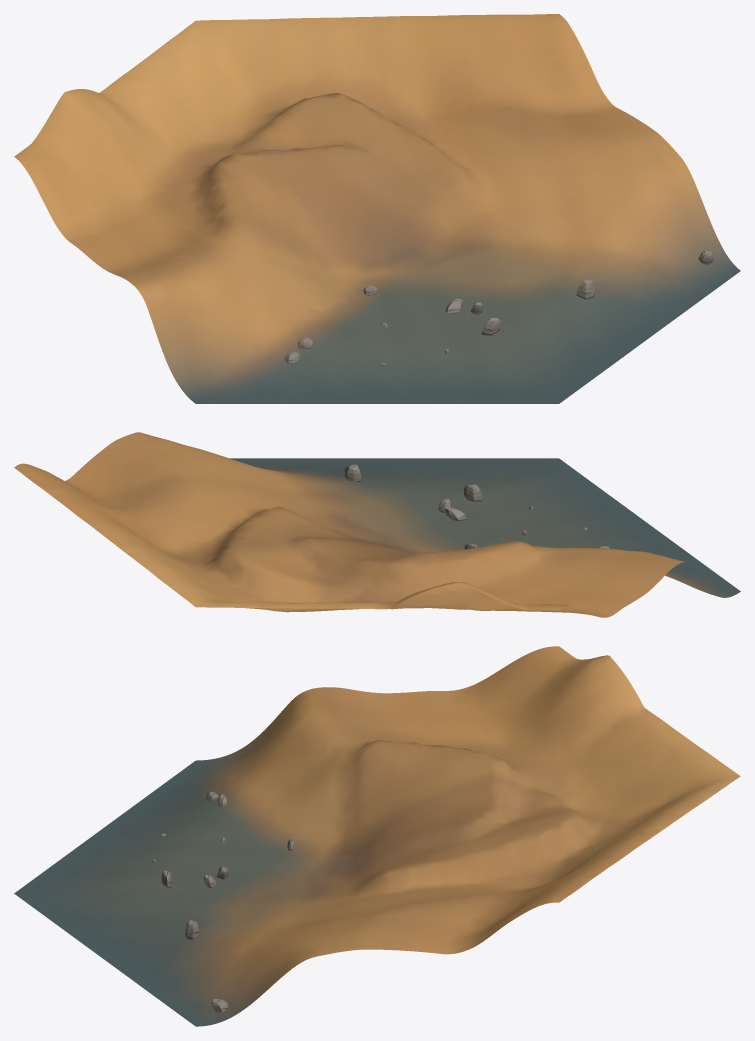
File: costa_-04_+06.glb
The picture shows the model from 3 angles, top to bottom: view 1: azimuth 30°, elevation 25°; view 2: azimuth 150°, elevation 25°; view 3: azimuth 270°, elevation 25°; orthographic projection.
Parts seen in each view (by area): view 1: terrain, Formações costeiras; view 2: terrain, Formações costeiras; view 3: terrain, Formações costeiras.
Part boxes in pixels (box(x1,y1,x2,y2)): terrain: box(14, 14, 740, 403); Formações costeiras: box(284, 250, 713, 365); terrain: box(14, 432, 740, 617); Formações costeiras: box(344, 464, 609, 549); terrain: box(14, 646, 740, 1026); Formações costeiras: box(152, 791, 294, 1012).
Size of the model in its own units: 4330 by 1075 by 5000.
Materials: 1 (1 with a texture image).
